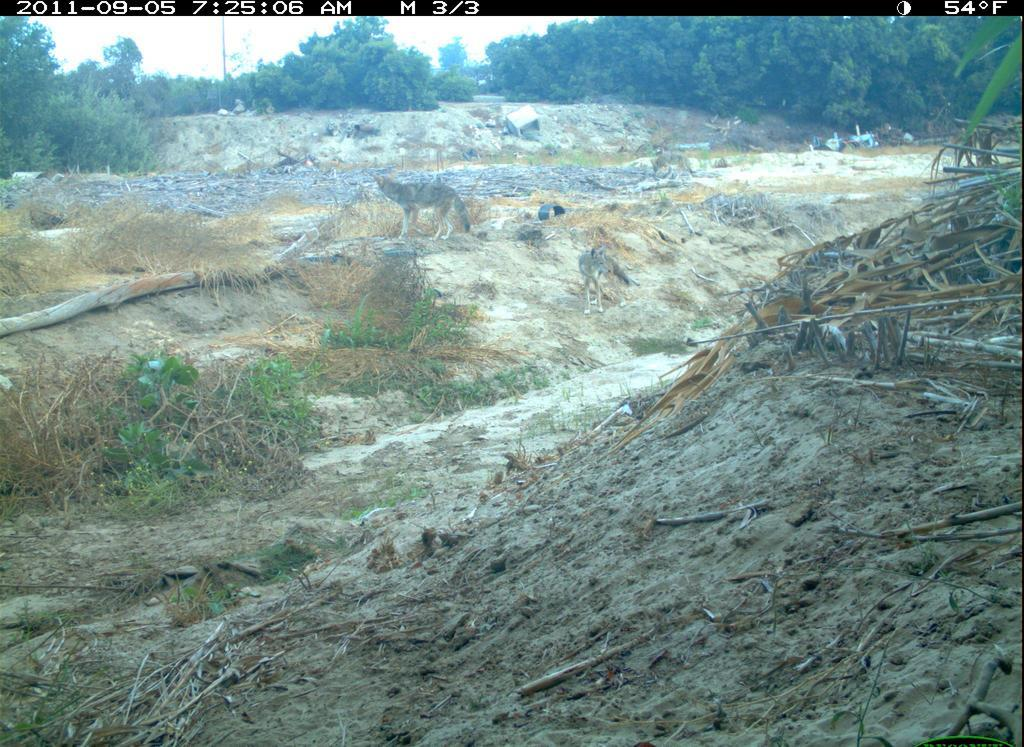coyote: (367, 168, 474, 251), (573, 225, 642, 321)
